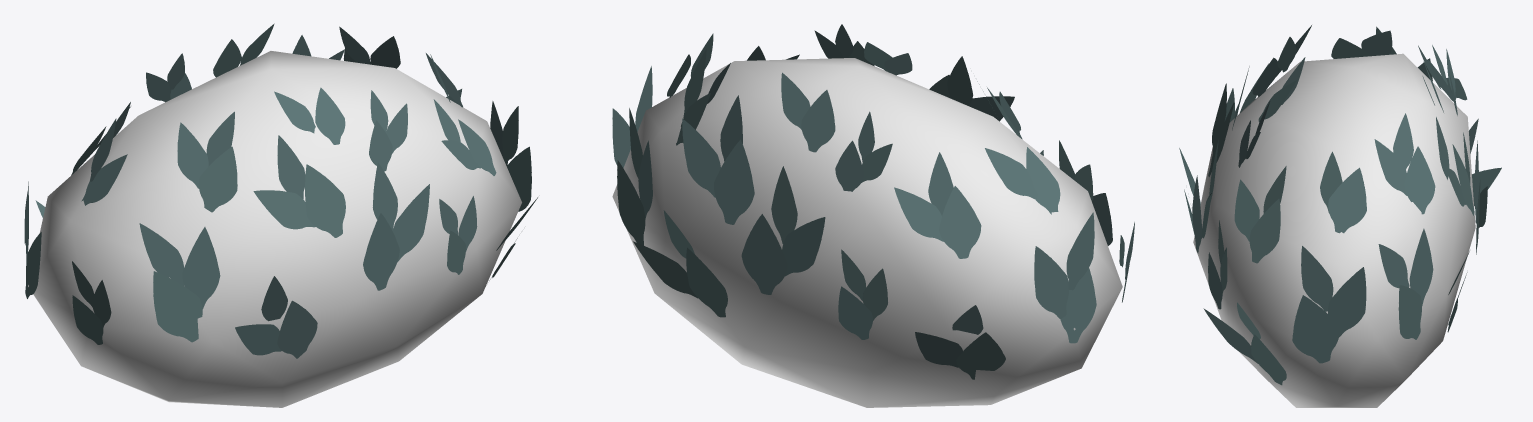
The model's file is SM_bush.fbx.
3 views of the same model, side by side, from view 1: azimuth 30°, elevation 25°; view 2: azimuth 150°, elevation 25°; view 3: azimuth 270°, elevation 25° (orthographic). The views are drawn at different scales.
Visible parts, largest first — view 1: Icosphere.005, leaf.001, leaf.004, leaf.002, leaf.005, leaf.006, leaf.019, leaf.028, leaf.009, leaf.021, leaf.003, leaf.007 (+7 smaller); view 2: Icosphere.005, leaf.010, leaf.014, leaf.020, leaf.013, leaf.015, leaf.017, leaf.016, leaf.012, leaf.026, leaf.018, leaf.004 (+7 smaller); view 3: Icosphere.005, leaf.019, leaf.012, leaf.011, leaf.003, leaf.008, leaf.025, leaf.014, leaf.005, leaf.004, leaf.007, leaf.002 (+10 smaller).
Part boxes in pixels (x1,y1,x2,y2): Icosphere.005: (28,51,521,407); leaf.001: (139,223,220,342); leaf.004: (253,135,345,237); leaf.002: (363,163,429,290); leaf.005: (177,111,237,212); leaf.006: (235,276,317,358); leaf.019: (490,101,531,211); leaf.028: (274,87,345,144); leaf.009: (369,90,407,171); leaf.021: (72,261,111,344); leaf.003: (433,99,496,175); leaf.007: (439,196,477,274); Icosphere.005: (612,58,1122,407); leaf.010: (741,166,825,294); leaf.014: (682,95,754,224); leaf.020: (1034,212,1096,343); leaf.013: (894,152,981,258); leaf.015: (633,210,727,317); leaf.017: (915,305,1005,379); leaf.016: (838,249,887,339); leaf.012: (617,108,652,245); leaf.026: (781,72,835,152); leaf.018: (835,111,892,191); leaf.004: (929,56,1014,121); Icosphere.005: (1193,53,1475,407); leaf.019: (1292,246,1366,363); leaf.012: (1378,228,1433,339); leaf.011: (1374,113,1435,214); leaf.003: (1234,166,1286,263); leaf.008: (1203,302,1286,385); leaf.025: (1328,167,1366,233); leaf.014: (1436,117,1474,215); leaf.005: (1252,25,1311,97); leaf.004: (1208,66,1249,176); leaf.007: (1208,220,1227,309); leaf.002: (1192,140,1218,253).
Bounding box in the file's own units: 3.87 × 2.64 × 2.42.
